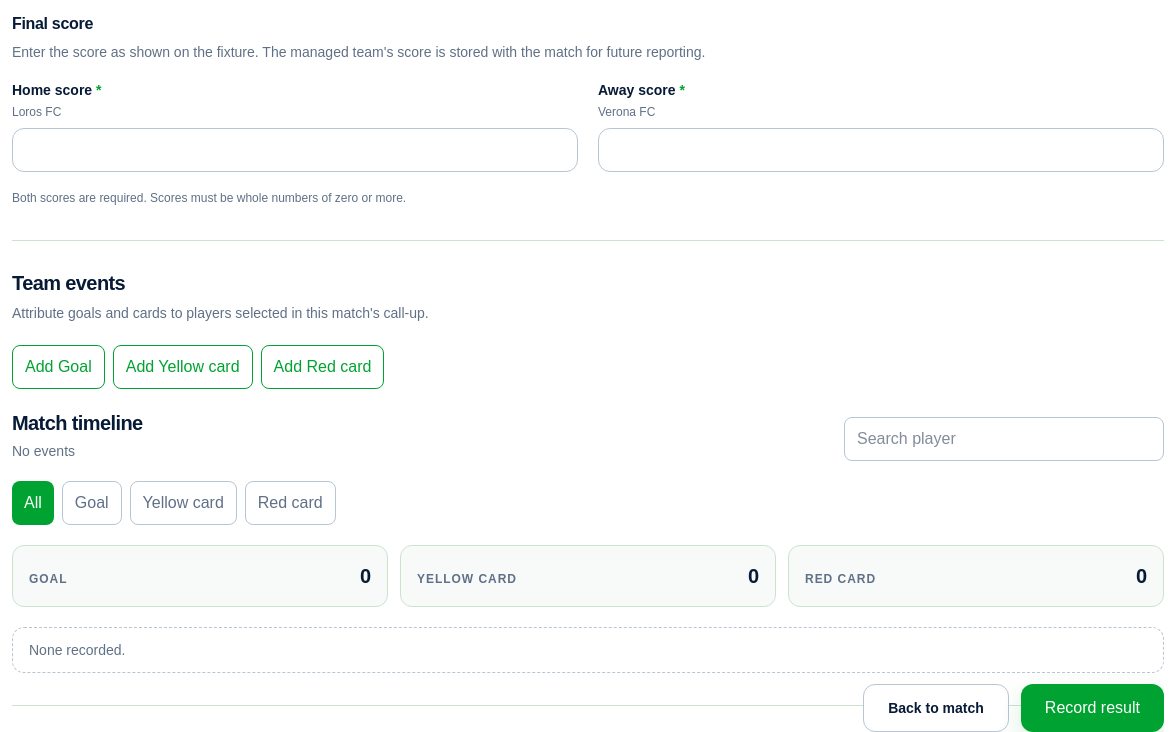
it: ResultForm › adds an editable player event with a removable accessible control
Click the button "Add Goal" at (58, 367), box [12,345,105,389]
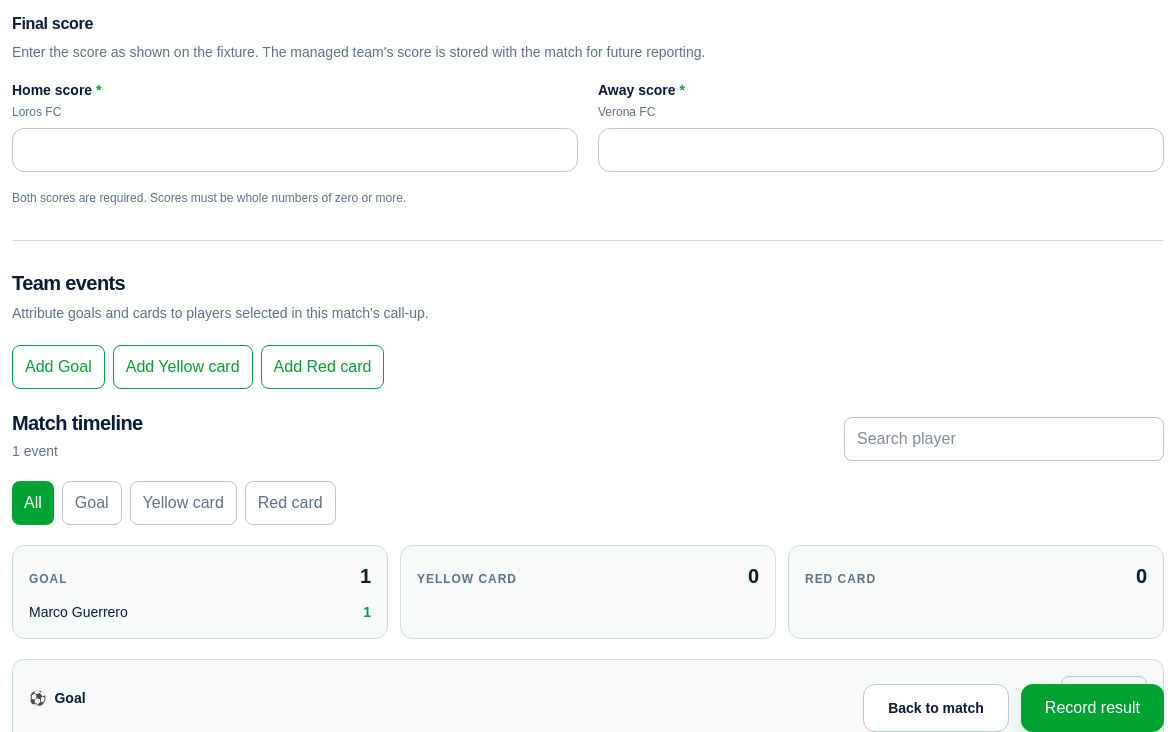
Expected: the button with aria-label "Remove Goal" is shown, [1061,676,1147,720]
